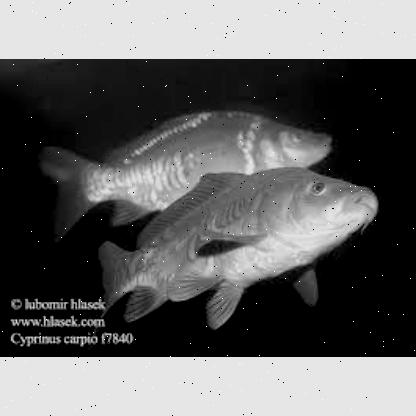ikan-mas: (95, 160, 380, 318), (40, 107, 338, 228)
